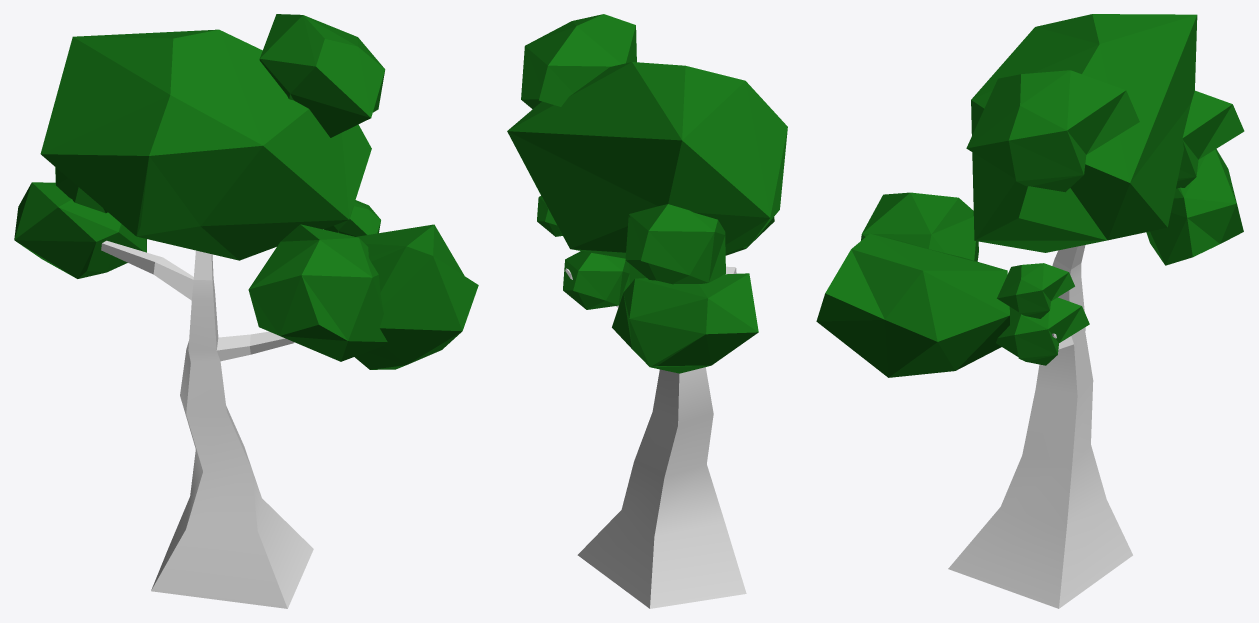
File: tree5.fbx
The picture shows the model from 3 angles, left to right: view 1: azimuth 30°, elevation 25°; view 2: azimuth 150°, elevation 25°; view 3: azimuth 270°, elevation 25°; orthographic projection.
Parts seen in each view (by area): view 1: GeoSphere066, Box004, GeoSphere070, GeoSphere069, GeoSphere067, GeoSphere073, GeoSphere072, GeoSphere068; view 2: GeoSphere066, Box004, GeoSphere073, GeoSphere067, GeoSphere068, GeoSphere071, GeoSphere072; view 3: GeoSphere066, Box004, GeoSphere069, GeoSphere067, GeoSphere073, GeoSphere070, GeoSphere071, GeoSphere068, GeoSphere072.
Part boxes in pixels (bbox=[...]): GeoSphere066: bbox=[40, 29, 371, 260]; Box004: bbox=[101, 240, 313, 608]; GeoSphere070: bbox=[248, 224, 387, 361]; GeoSphere069: bbox=[355, 224, 478, 369]; GeoSphere067: bbox=[259, 14, 385, 137]; GeoSphere073: bbox=[14, 182, 146, 278]; GeoSphere072: bbox=[324, 200, 380, 236]; GeoSphere068: bbox=[55, 167, 107, 213]; GeoSphere066: bbox=[507, 62, 787, 258]; Box004: bbox=[565, 266, 746, 608]; GeoSphere073: bbox=[612, 273, 758, 373]; GeoSphere067: bbox=[521, 14, 636, 109]; GeoSphere068: bbox=[625, 204, 725, 284]; GeoSphere071: bbox=[563, 251, 629, 309]; GeoSphere072: bbox=[537, 196, 562, 236]; GeoSphere066: bbox=[971, 14, 1197, 252]; Box004: bbox=[948, 245, 1132, 608]; GeoSphere069: bbox=[816, 233, 1009, 377]; GeoSphere067: bbox=[966, 70, 1139, 192]; GeoSphere073: bbox=[1146, 149, 1243, 265]; GeoSphere070: bbox=[861, 192, 978, 261]; GeoSphere071: bbox=[996, 297, 1089, 365]; GeoSphere068: bbox=[1176, 90, 1244, 188]; GeoSphere072: bbox=[997, 263, 1074, 318].
Bounding box in the file's own units: 1868 × 2967 × 2146.
